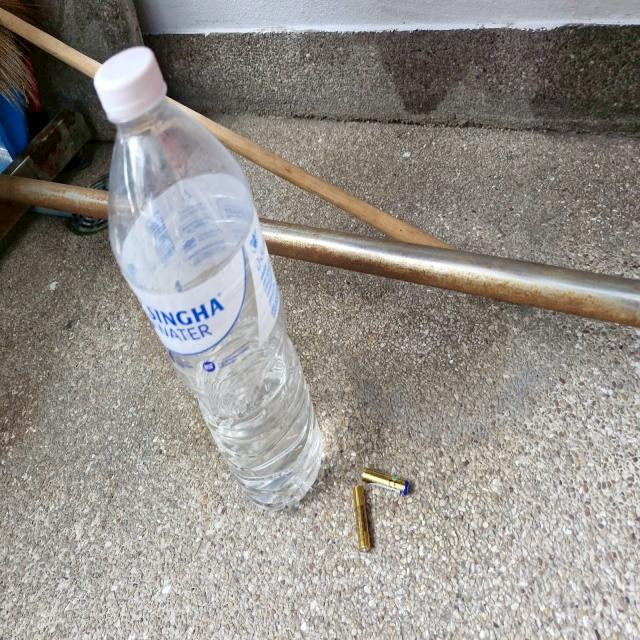battery: (348, 483, 376, 551)
plastic bottle: (105, 61, 334, 518)
